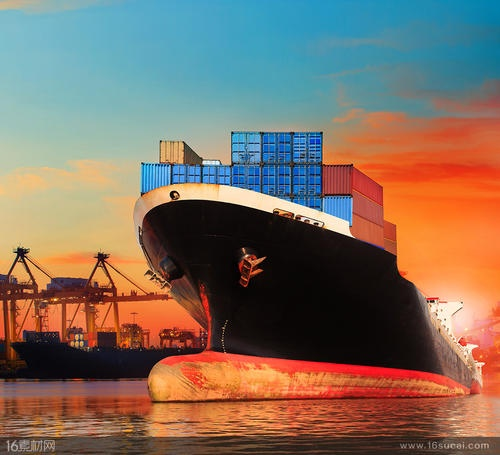Cargoship: (123, 123, 489, 403)
